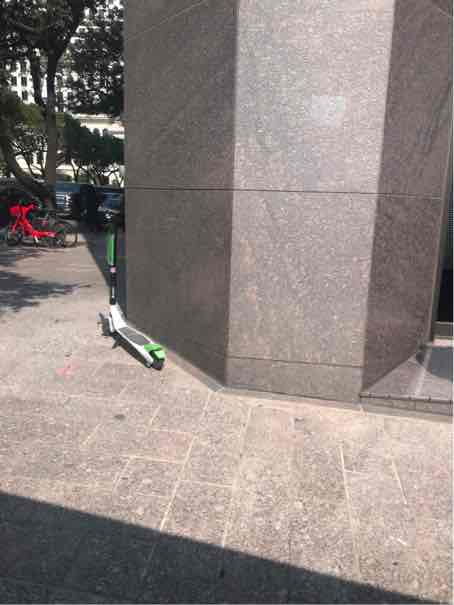scooter: (67, 192, 182, 387)
